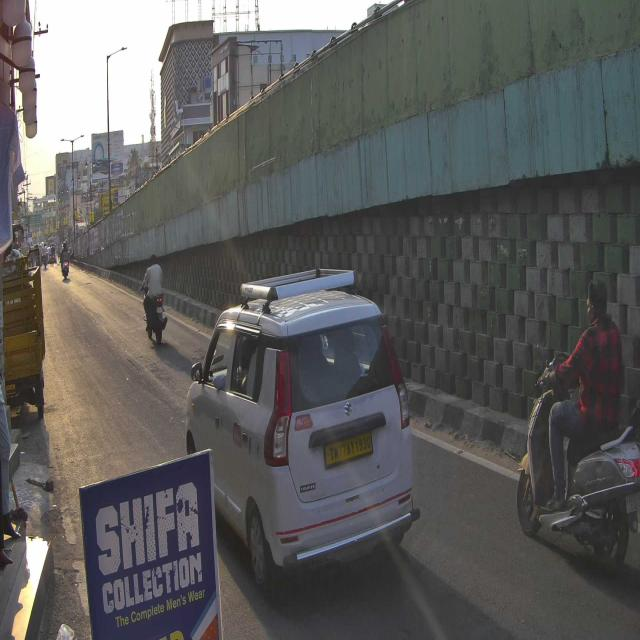single_rider: (517, 280, 640, 568)
